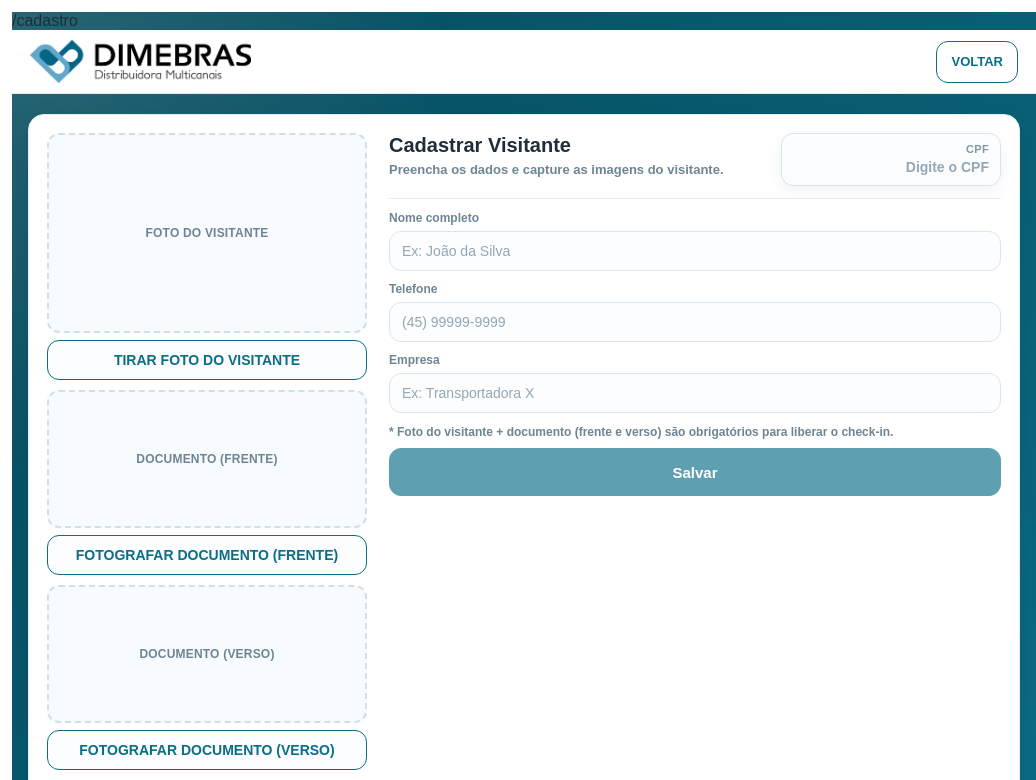
Test: CadastroVisitante CPF feedback › mostra erro ao sair do campo com CPF preenchido e invalido
Type "11111111111" into the field labelled "CPF". click: (891, 167)
box: [793,159,989,175]
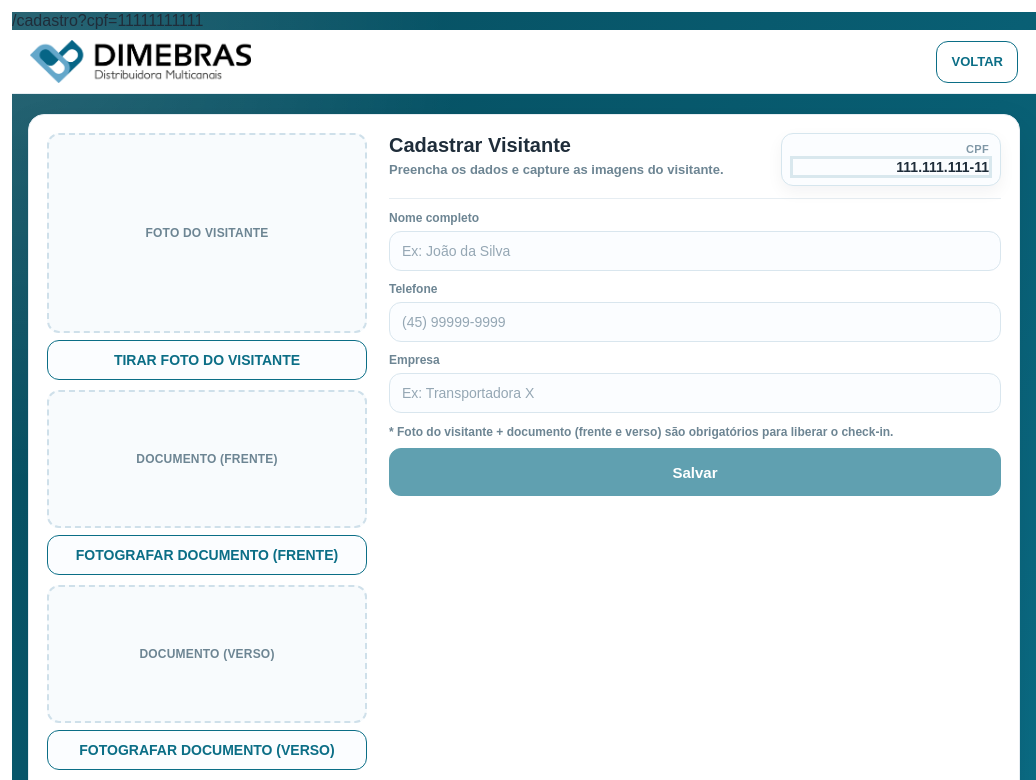
Press Tab
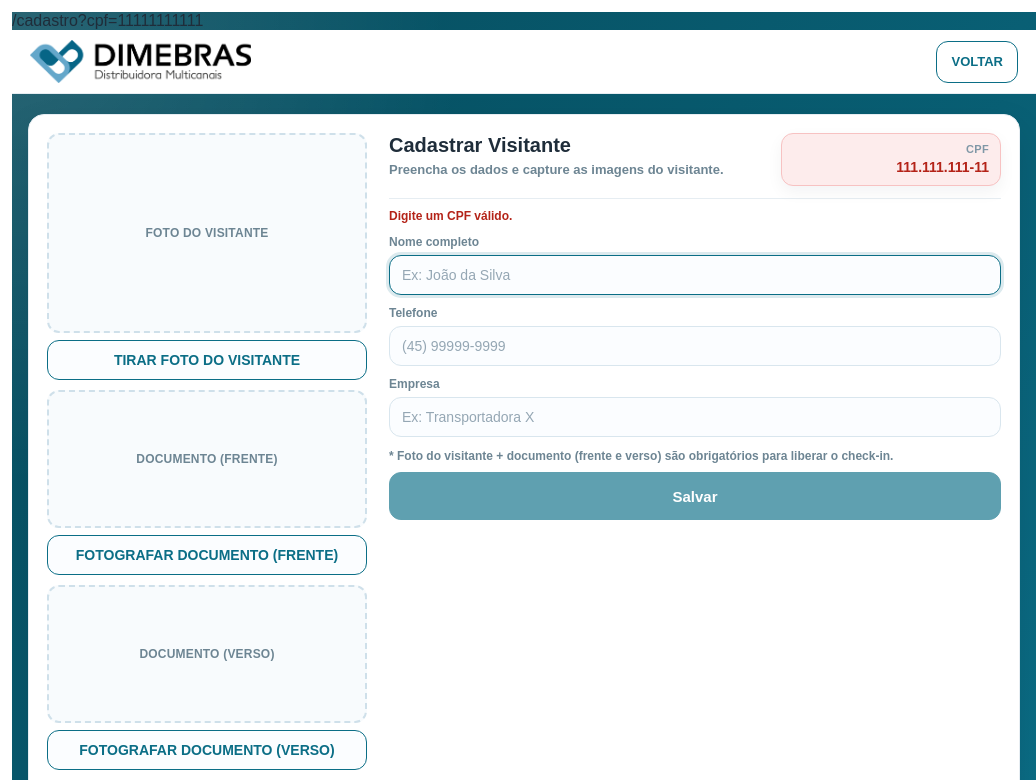
Result: the text "Digite um CPF válido." is shown once at [389,209,512,223]
